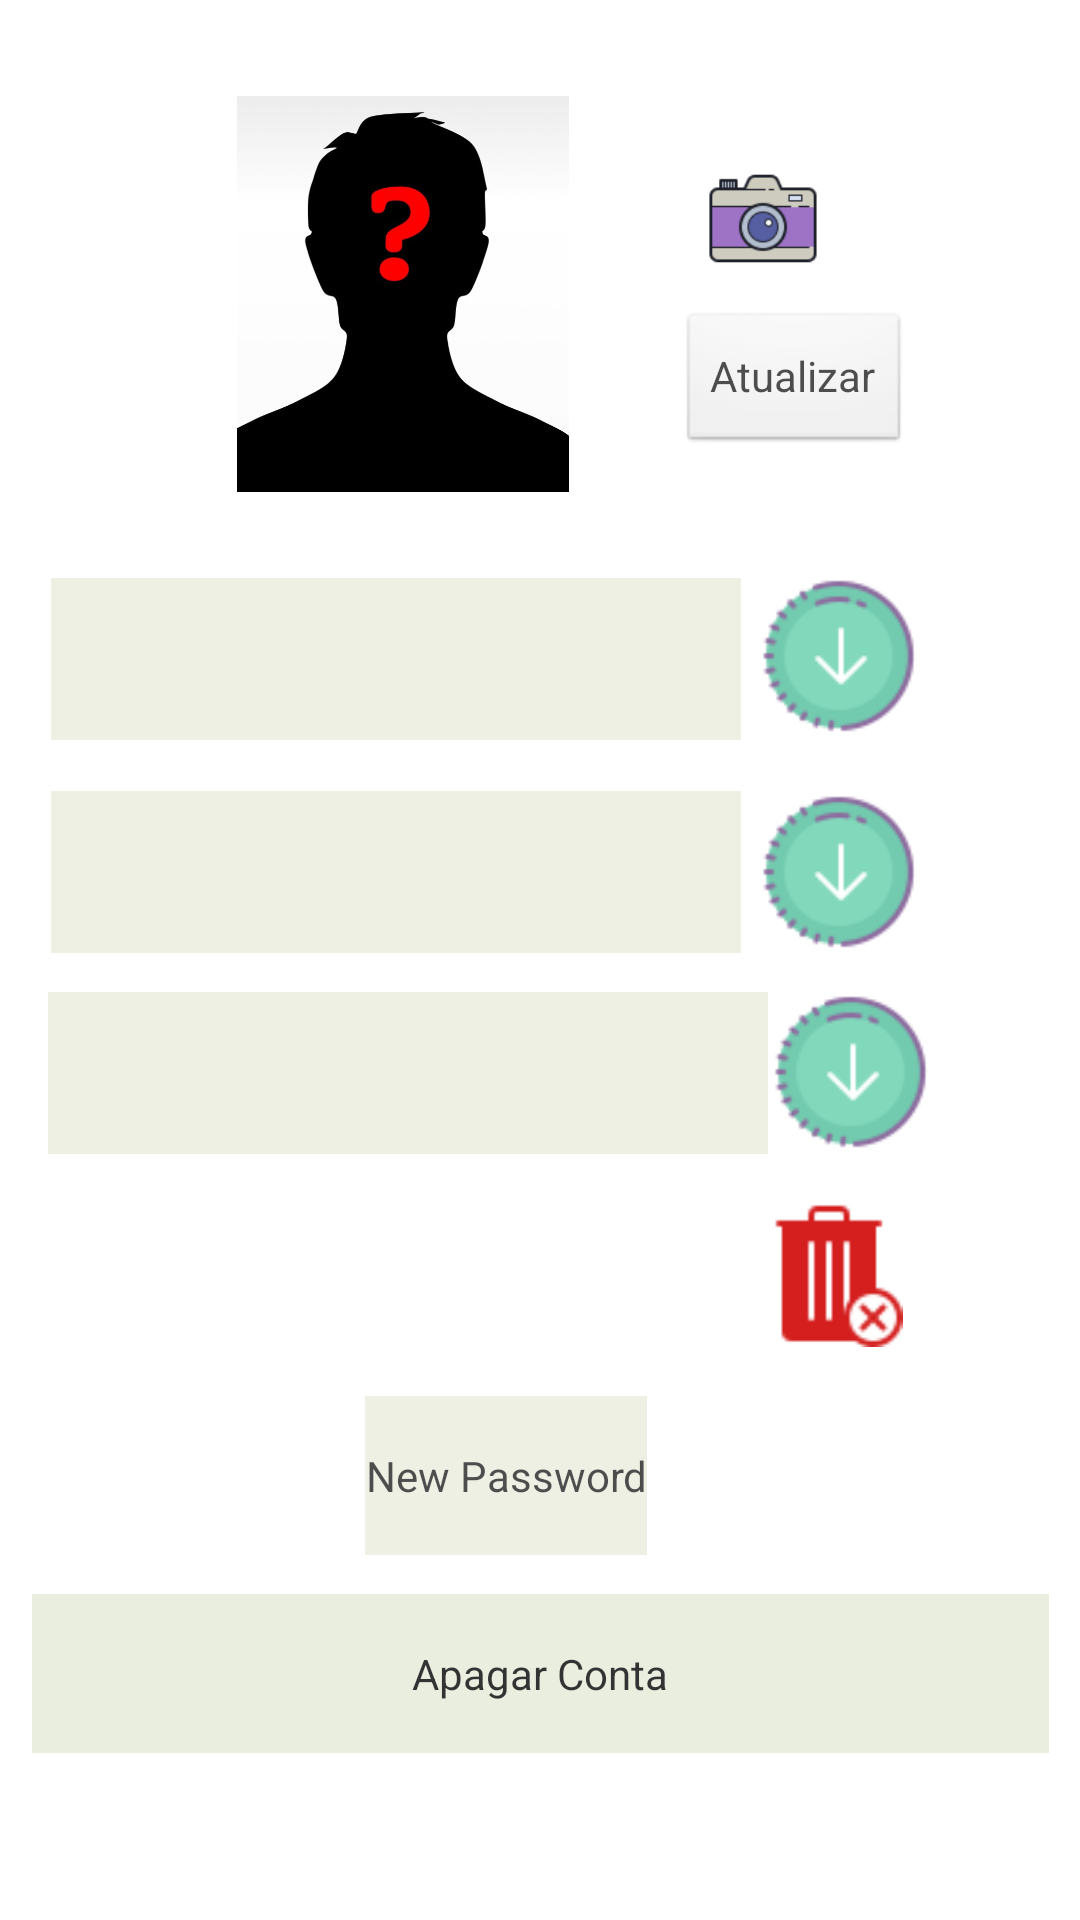

Point at icon controls on the screen. Image size 1080w x 1920h, points as (x=x, y=y).
camera: (x=763, y=218)
trash: (x=839, y=1276)
